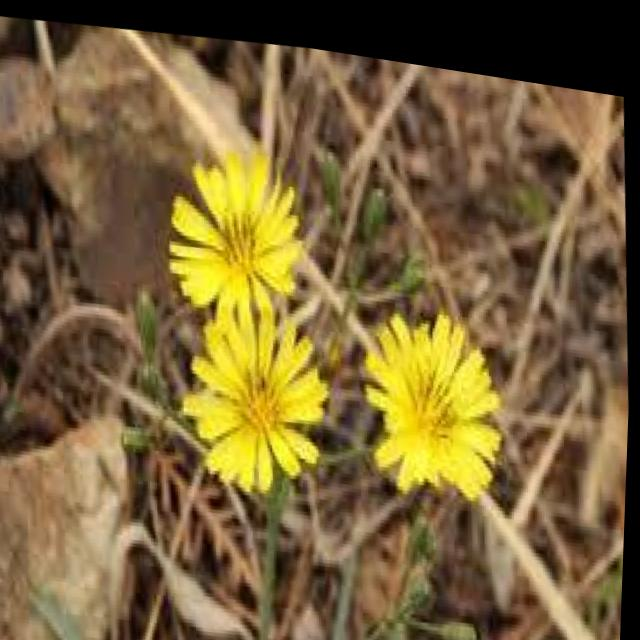Flower: (173, 273, 347, 498), (354, 280, 516, 499), (159, 131, 325, 322)
